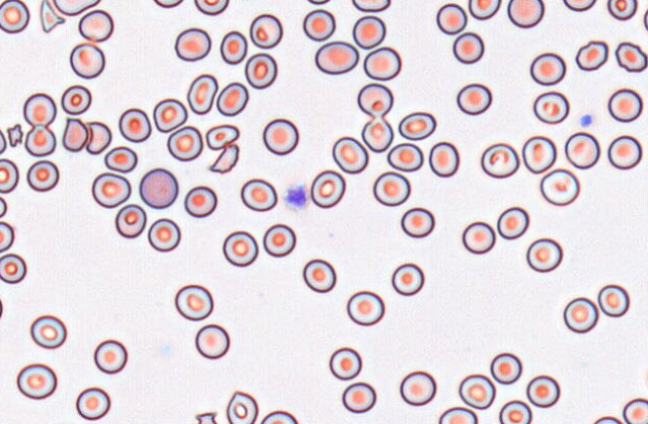PLT: (280, 182, 309, 211), (579, 112, 594, 126)
RBC: (138, 167, 178, 208), (314, 40, 359, 74), (539, 168, 579, 206), (16, 363, 57, 399), (174, 284, 213, 321), (91, 172, 131, 208), (480, 142, 519, 178), (564, 131, 600, 169), (310, 169, 345, 208), (166, 125, 203, 161), (332, 136, 368, 173), (399, 370, 436, 406), (458, 373, 495, 409), (262, 118, 298, 155), (372, 171, 410, 206), (521, 135, 556, 173), (346, 290, 384, 325), (69, 42, 105, 78), (222, 230, 258, 266), (30, 314, 67, 349), (363, 46, 401, 80), (186, 73, 217, 114), (357, 82, 393, 117), (526, 237, 562, 272), (563, 297, 598, 333), (174, 27, 211, 61), (607, 134, 642, 169), (195, 323, 229, 359), (607, 88, 643, 122), (244, 52, 277, 89), (240, 178, 277, 211), (529, 52, 566, 85), (152, 98, 187, 132), (75, 386, 110, 420), (93, 339, 127, 374), (302, 258, 336, 293), (533, 91, 569, 124), (262, 223, 296, 257), (23, 92, 56, 127), (78, 9, 113, 42), (118, 107, 151, 142), (147, 217, 180, 252), (249, 13, 282, 48), (361, 116, 393, 152), (456, 83, 492, 115), (225, 390, 258, 424), (352, 15, 385, 49), (461, 221, 495, 254), (526, 374, 560, 407), (216, 81, 248, 116), (341, 381, 376, 413), (428, 141, 459, 177), (386, 142, 423, 172), (398, 111, 436, 140), (496, 206, 529, 239), (302, 8, 335, 41), (391, 262, 424, 295), (329, 346, 361, 380), (115, 203, 146, 238), (26, 159, 59, 191), (452, 31, 484, 64), (184, 185, 217, 217), (597, 284, 629, 317), (400, 207, 434, 238), (507, 0, 544, 28), (24, 124, 56, 156), (490, 352, 522, 384), (575, 40, 608, 71), (615, 41, 647, 72), (60, 84, 91, 115), (436, 3, 467, 34), (0, 0, 29, 33), (219, 30, 247, 64), (104, 145, 137, 173), (205, 123, 239, 150), (498, 399, 531, 424), (0, 253, 26, 283), (53, 0, 101, 16), (622, 397, 648, 424), (0, 158, 19, 193), (438, 406, 477, 423), (468, 0, 501, 20), (607, 0, 637, 20), (259, 410, 298, 424), (193, 0, 229, 15), (351, 0, 390, 12), (0, 221, 14, 252), (562, 0, 597, 11), (592, 415, 624, 424), (153, 0, 183, 8), (0, 126, 7, 154), (0, 195, 7, 218), (643, 4, 648, 33), (305, 0, 331, 5), (644, 362, 648, 391), (0, 293, 3, 322), (233, 0, 261, 1)
Schistocyte: (61, 116, 88, 153), (38, 0, 66, 35), (210, 143, 240, 175), (87, 121, 111, 154), (195, 410, 221, 424), (8, 123, 23, 147)
